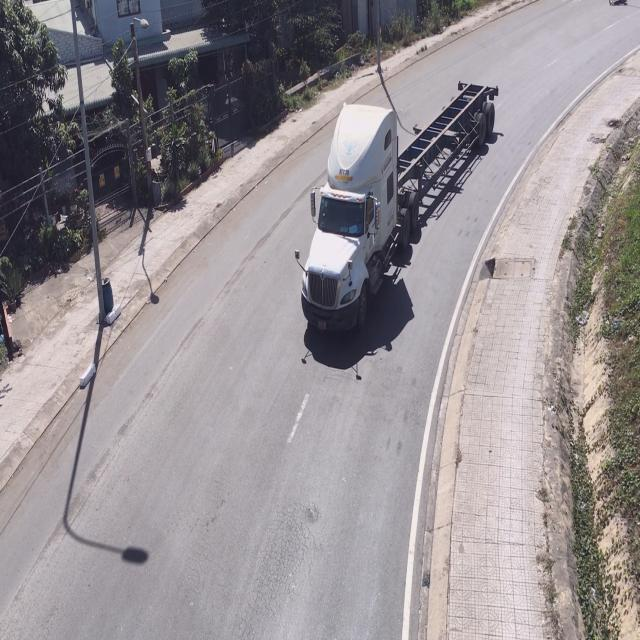motorbike: (608, 0, 631, 8)
truck: (304, 86, 502, 341)
